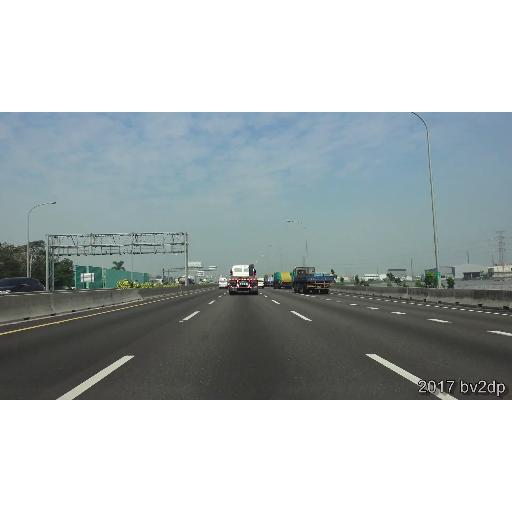Car: (291, 267, 333, 295), (228, 266, 258, 294), (272, 272, 294, 290), (264, 274, 274, 286), (218, 278, 228, 288), (258, 280, 264, 288)
